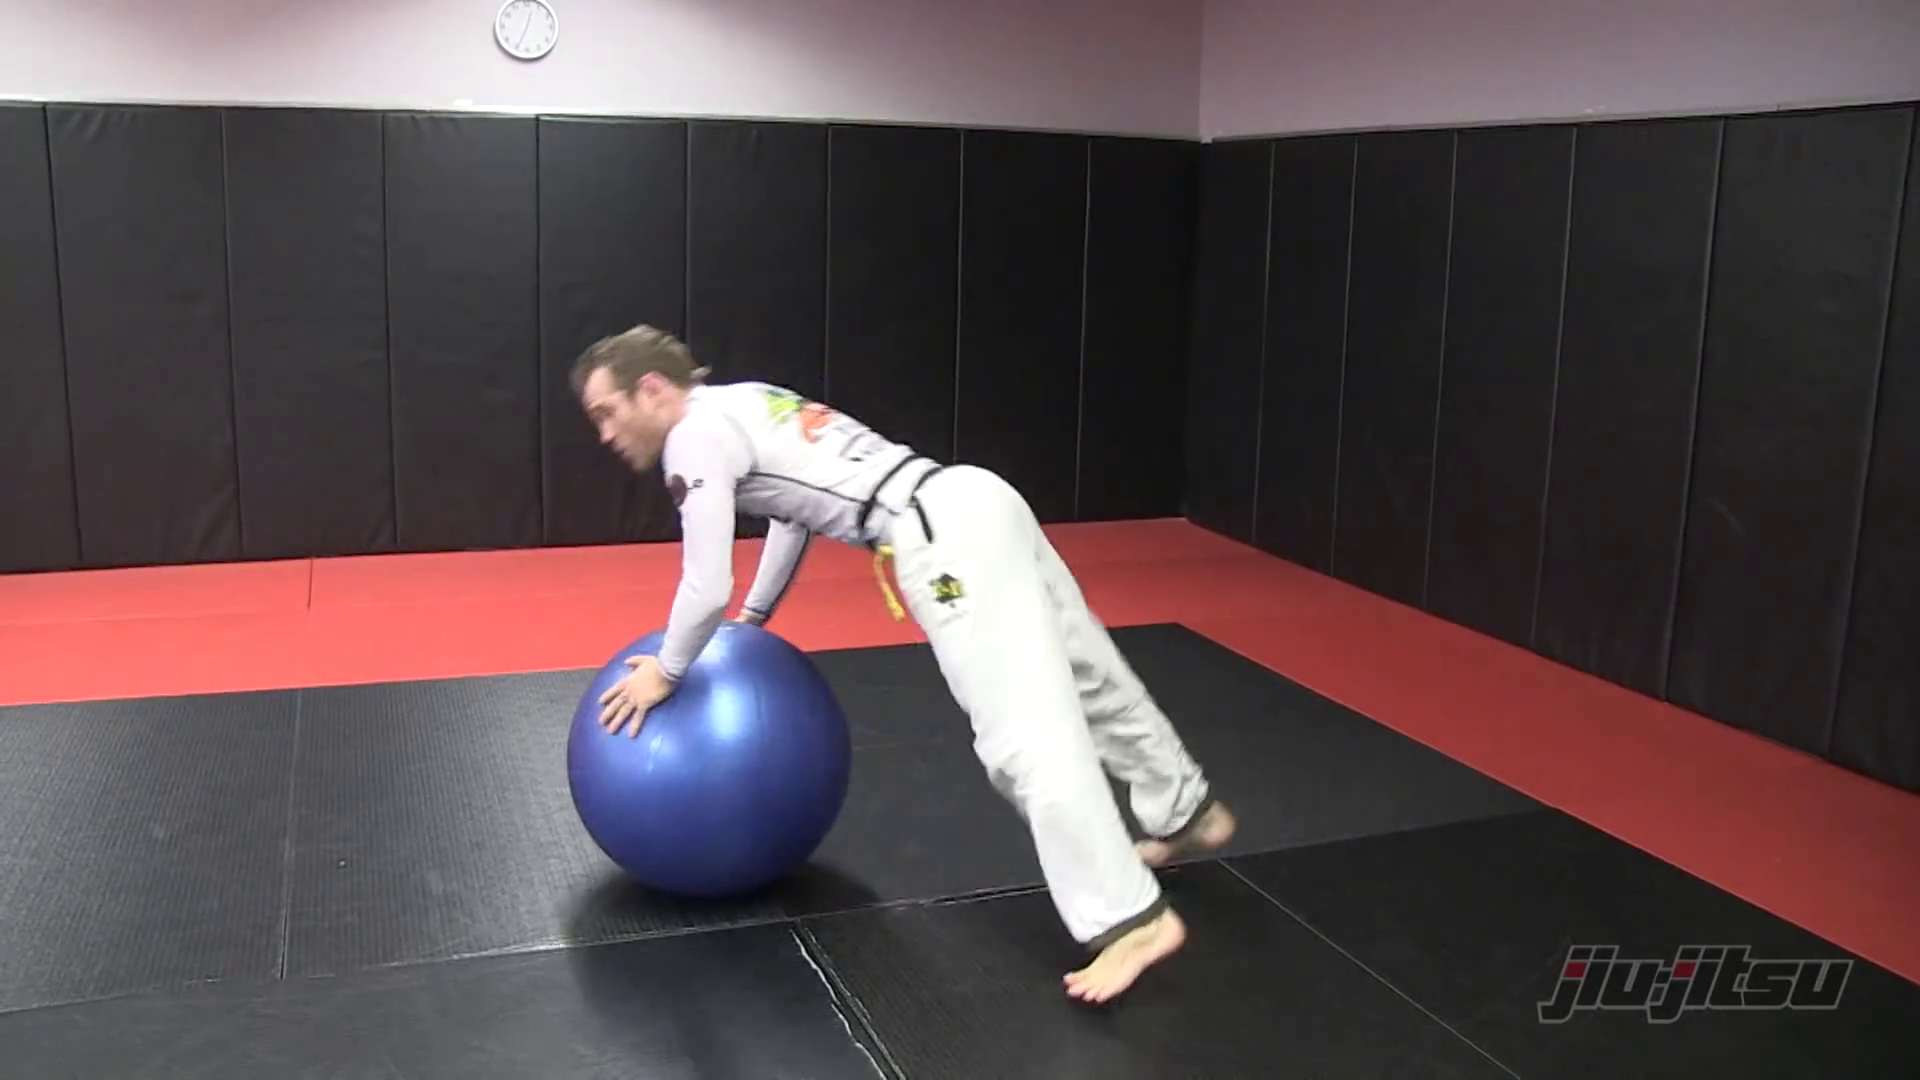yogaball: (549, 624, 865, 922)
